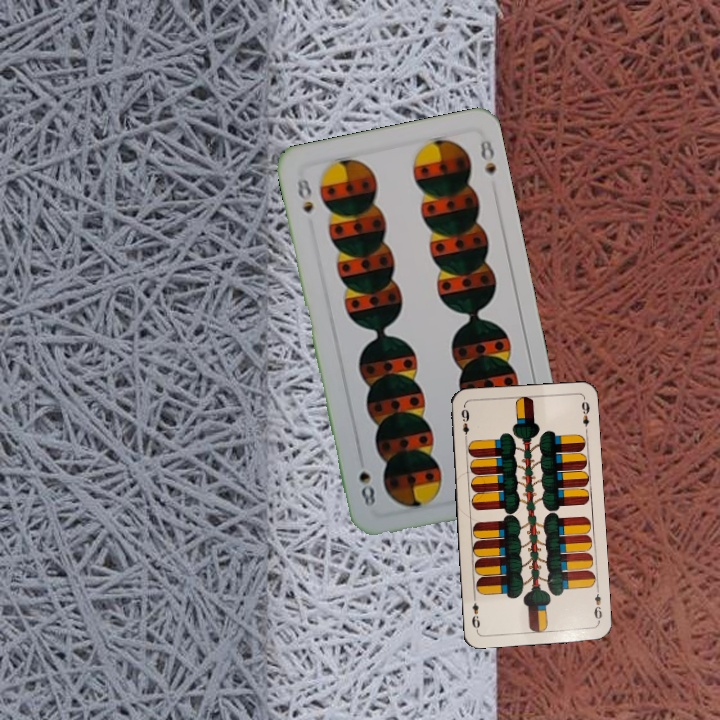E9: (457, 403, 472, 444), (590, 584, 605, 625)
S8: (293, 174, 316, 216)
